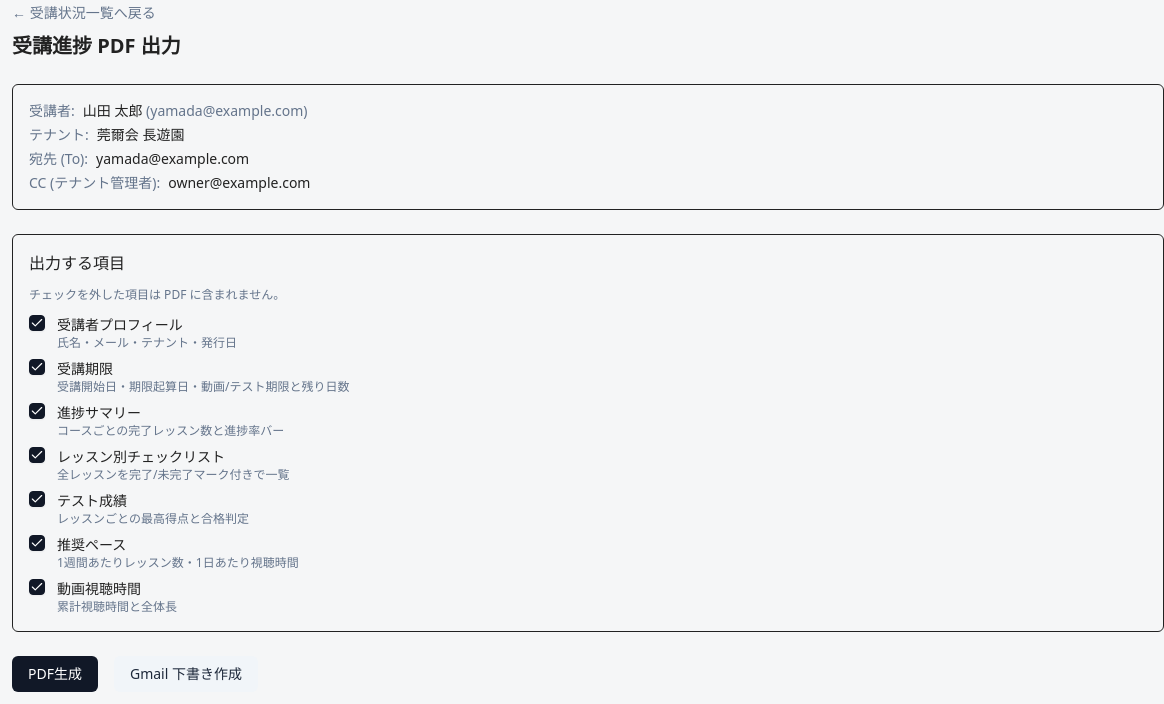
Test: I5: popup ブロック時の fallback UI › window.open が null を返す → 「下書きは作成済み」+ Gmail を開くリンクが描画される
Click the button "Gmail 下書き作成". click: (186, 674)
box: top-left (114, 656), bottom-right (258, 692)
(page scrolled)
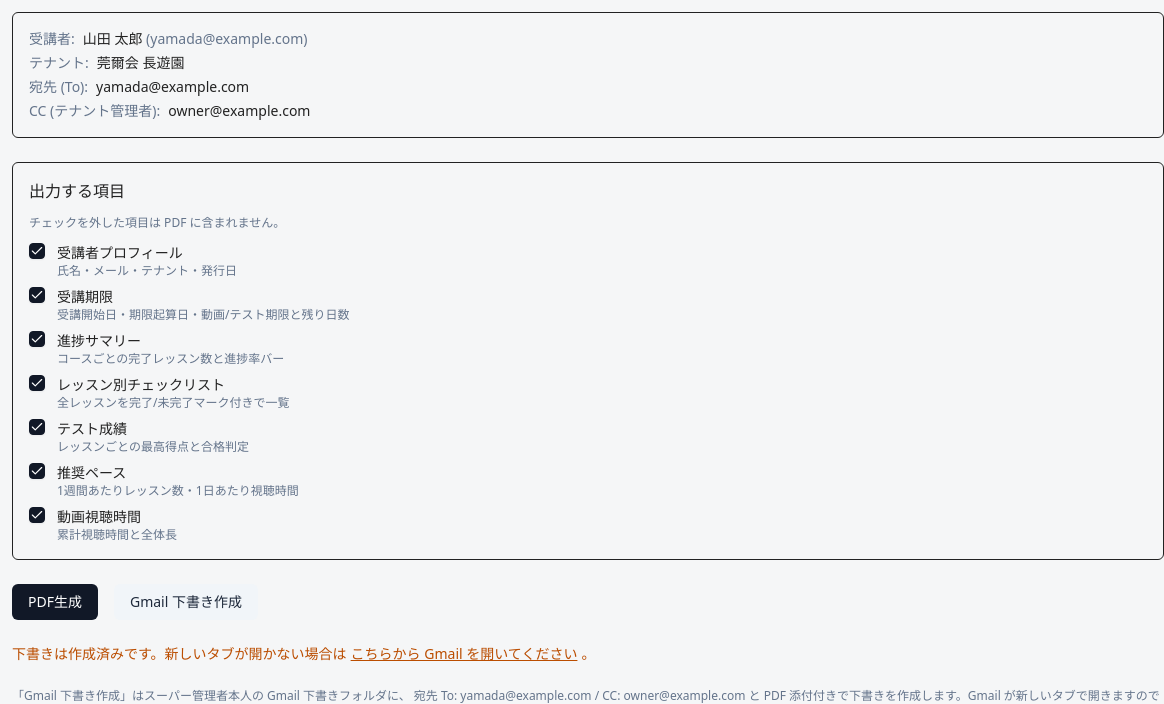
expect the text "下書きは作成済みです。新しいタブが開かない場合は こちらから Gmail を開いてください 。" is shown: met, box top-left (12, 644), bottom-right (595, 663)
